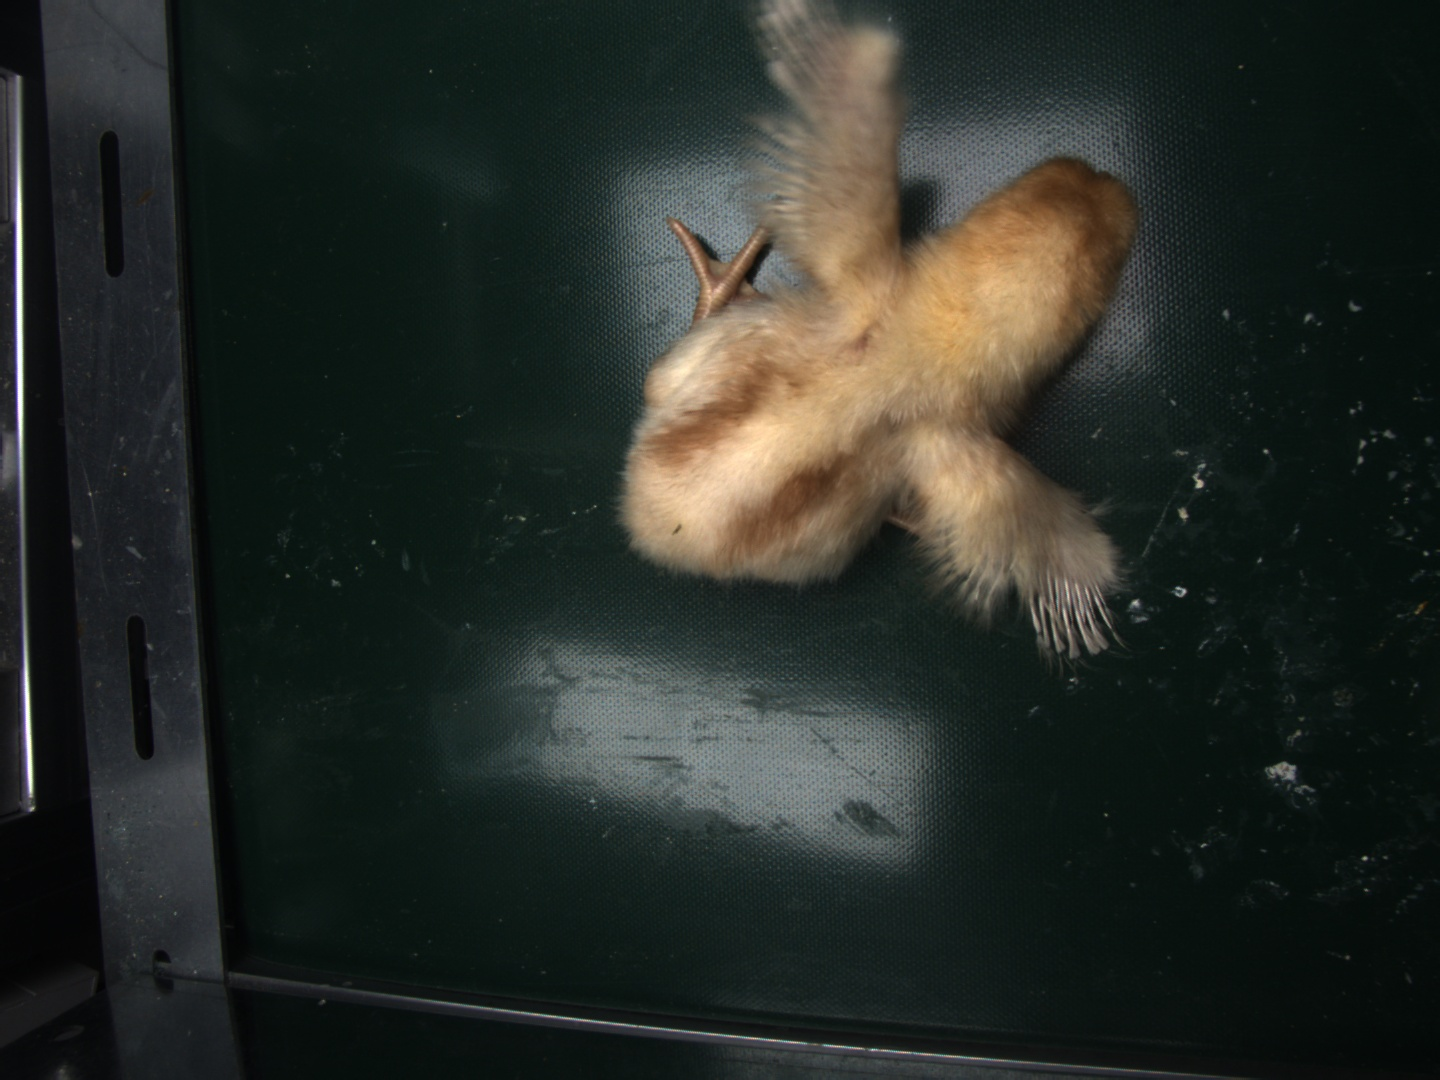female: (1030, 580, 1125, 658)
